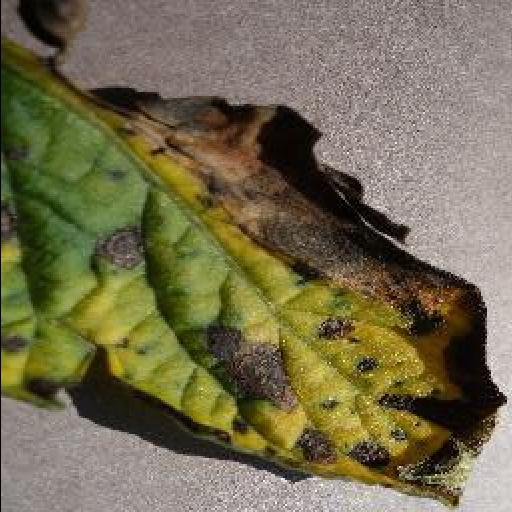disease_tomato: (0, 0, 510, 512)
